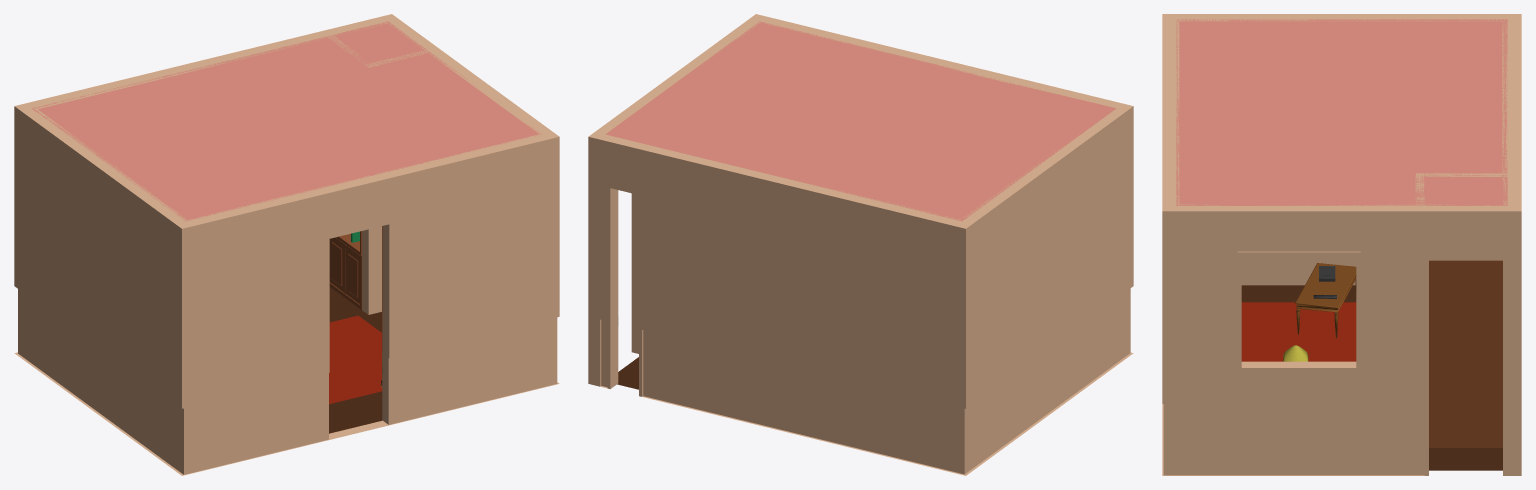
The model's file is S_salon.glb.
3 renders of one model, left to right at view 1: azimuth 30°, elevation 25°; view 2: azimuth 150°, elevation 25°; view 3: azimuth 270°, elevation 25°, orthographic. The views are drawn at different scales.
Parts seen in each view (by area): view 1: S_MurSalonBase, S_PlafondSalon, S_Rug, S_SolSalon, S_MurSalonCorner, S_Biblio; view 2: S_MurSalonBase, S_PlafondSalon, S_MurSalon2.001, S_MurSalon2.002; view 3: S_MurSalonBase, S_PlafondSalon, S_Biblio, S_Rug, S_MurSalon2.001, S_SolSalon, S_TableBasse_low, S_MurSalonCorner.
Boxes of the visible parts, x1,y1,x2,y2 form: S_MurSalonBase: [14, 14, 559, 475]; S_PlafondSalon: [31, 21, 542, 221]; S_Rug: [329, 315, 382, 404]; S_SolSalon: [329, 287, 382, 433]; S_MurSalonCorner: [327, 35, 428, 314]; S_Biblio: [329, 231, 362, 309]; S_MurSalonBase: [588, 14, 1133, 475]; S_PlafondSalon: [605, 21, 1116, 221]; S_MurSalon2.001: [588, 174, 638, 386]; S_MurSalon2.002: [607, 179, 643, 396]; S_MurSalonBase: [1162, 14, 1521, 475]; S_PlafondSalon: [1176, 19, 1507, 205]; S_Biblio: [1429, 260, 1502, 447]; S_Rug: [1241, 302, 1356, 361]; S_MurSalon2.001: [1424, 251, 1521, 475]; S_SolSalon: [1241, 285, 1502, 470]; S_TableBasse_low: [1295, 263, 1356, 338]; S_MurSalonCorner: [1415, 173, 1507, 204].
Bounding box in the file's own units: 4.24 × 2.65 × 3.25.
